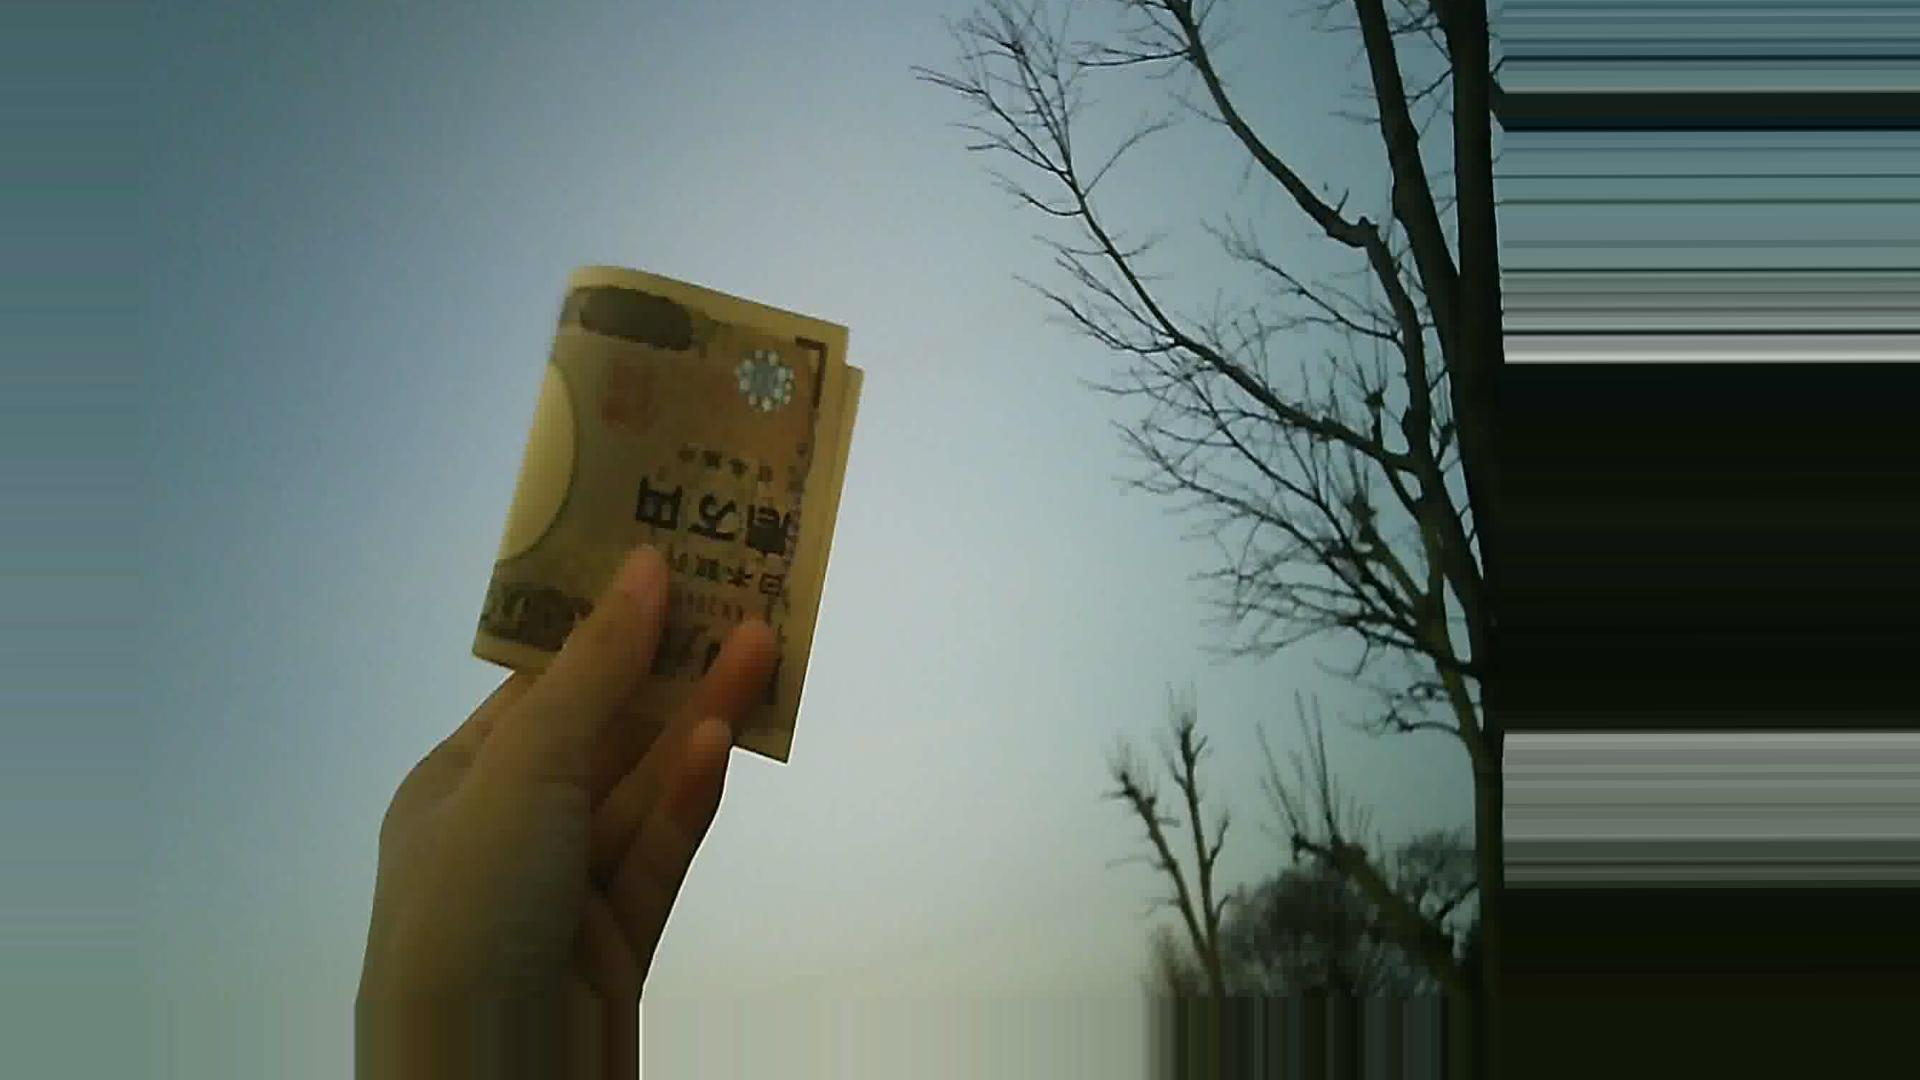10,000 Yen: (468, 264, 885, 781)
